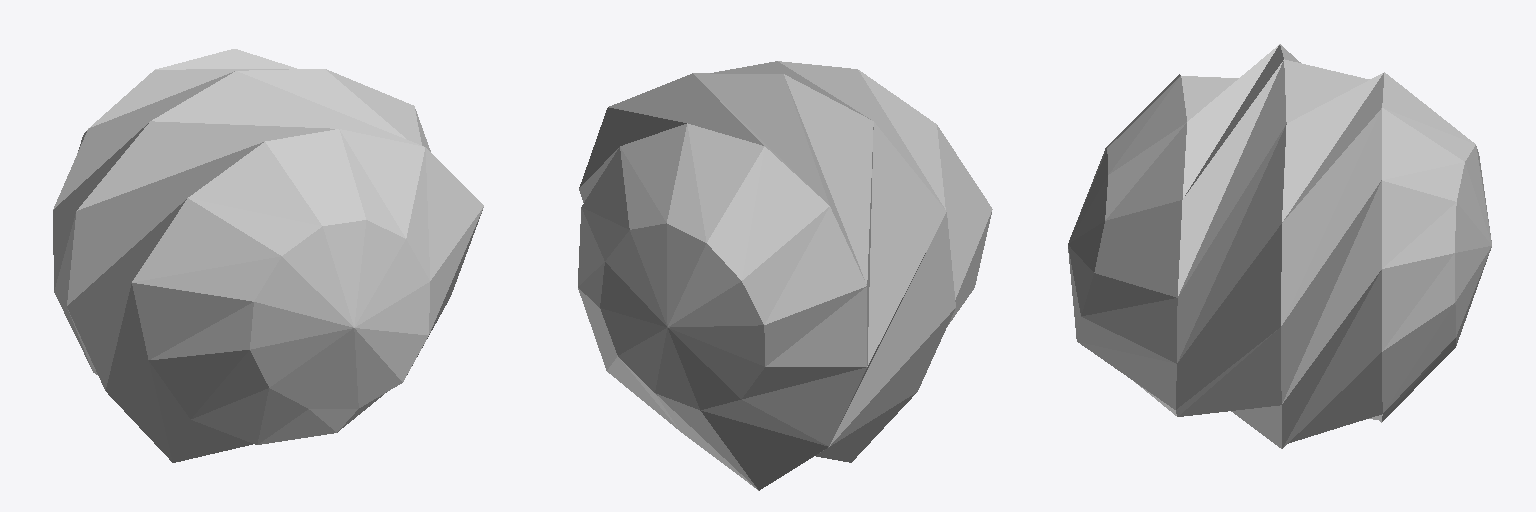
File: puffCluster.obj
3 renders of one model, left to right at view 1: azimuth 30°, elevation 25°; view 2: azimuth 150°, elevation 25°; view 3: azimuth 270°, elevation 25°, orthographic.
Parts seen in each view (by area): view 1: Sphere02; view 2: Sphere02; view 3: Sphere02.
Boxes of the visible parts, box(x1,y1,x2,y2) form: Sphere02: box(53, 49, 483, 462); Sphere02: box(578, 61, 992, 490); Sphere02: box(1068, 44, 1491, 448).
Size of the model in its own units: 7.34 by 6.99 by 7.15.